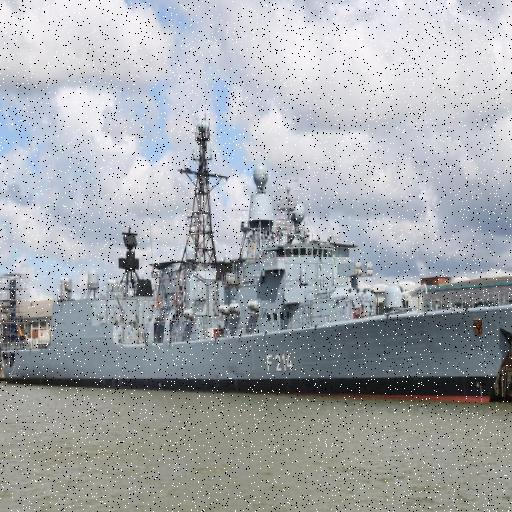Fragata: (1, 118, 512, 419)
